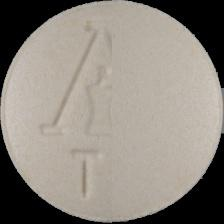0456-0460: (0, 0, 224, 224)
